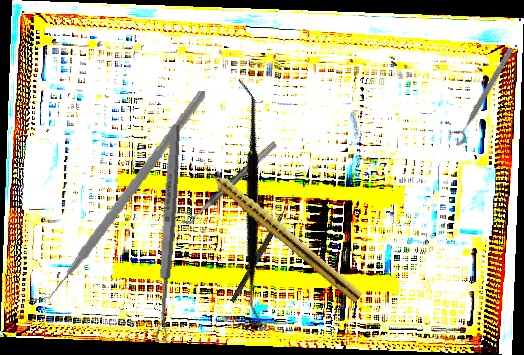Chopper: (26, 77, 206, 315)
Fixation Ring: (174, 133, 279, 229), (445, 42, 518, 148)
Handpiece: (197, 158, 366, 304)
Hook Surgical: (230, 192, 296, 304)
Spatula Surgical: (140, 77, 360, 327)
Surgical Spoon: (153, 124, 183, 343)
